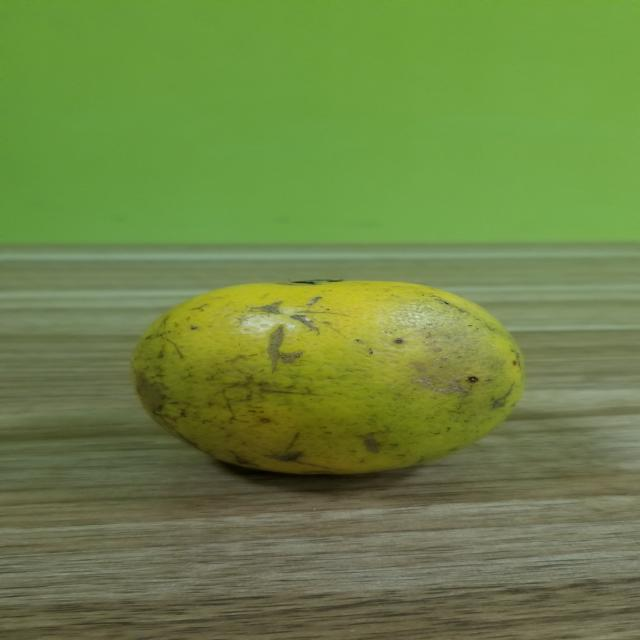Ripe orange: (118, 268, 536, 491)
